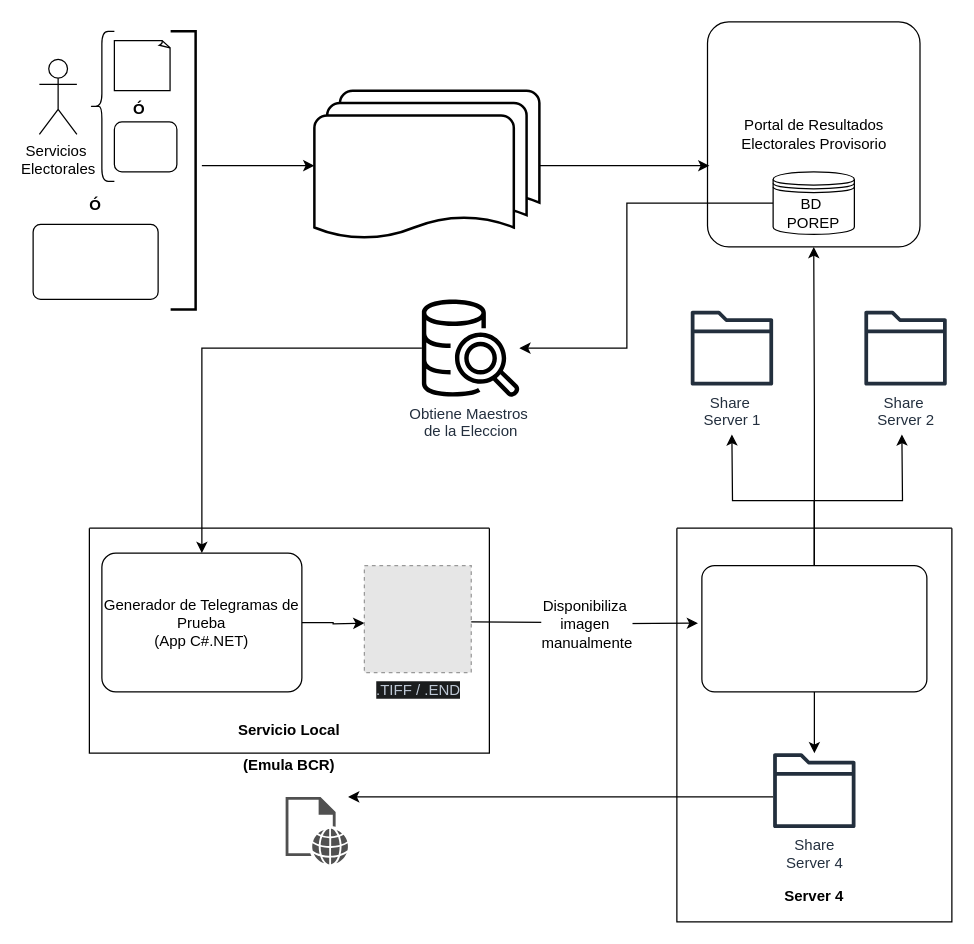
This 974x944 diagram has some shape labels left out. Grey dashed boxes stand in for pictures. Here are the shapes that lost their labels. From the top down, the centre of each, then its label:
At pixel 142 65: "Excel / CSV".
At pixel 145 146: "ABM".
At pixel 426 165: "Maestros de la Eleccion (Municipios, Listas, Cargos, Oficinas electorales , etc)".
At pixel 95 261: "Generador Maestro Eleccion".
At pixel 814 628: "Convertidor de .TIFF a .PNG y .PDF (Servicio App C#.NET ejecutado por DBASQL)".
At pixel 316 830: "Consulta Web Publica (Solo en PROD)".
